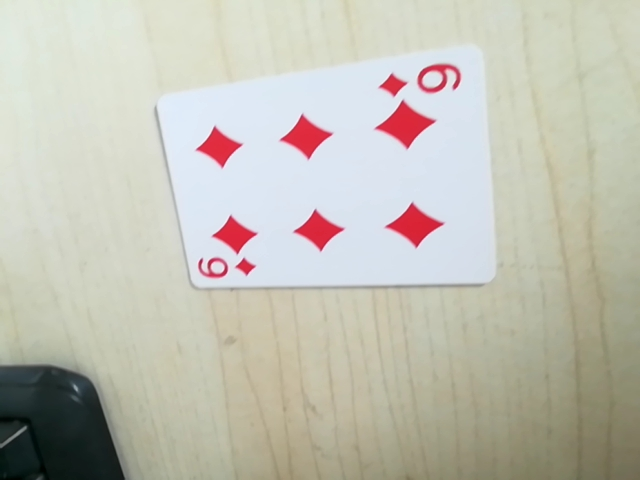fk 6: (376, 55, 466, 103), (195, 252, 260, 287)
